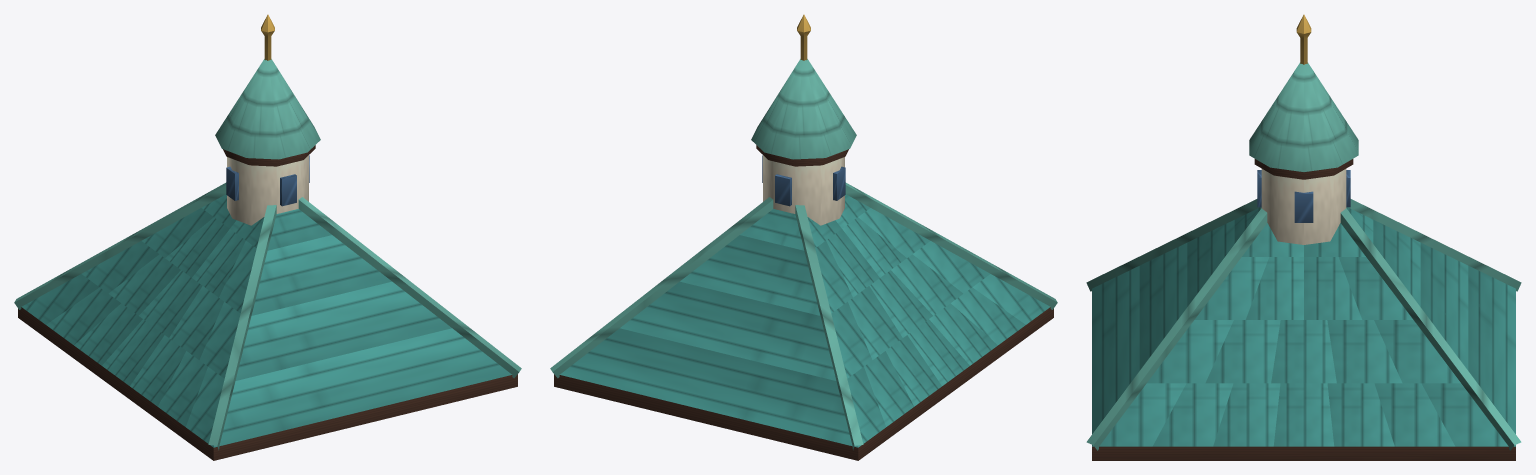
Rendered from bld_roof_b_6x6.glb.
3 renders of one model, left to right at view 1: azimuth 30°, elevation 25°; view 2: azimuth 150°, elevation 25°; view 3: azimuth 270°, elevation 25°, orthographic. The views are drawn at different scales.
Visible parts, largest first — view 1: bld_roof_b_6x6; view 2: bld_roof_b_6x6; view 3: bld_roof_b_6x6.
Boxes of the visible parts, x1,y1,x2,y2 form: bld_roof_b_6x6: (14,14,521,460); bld_roof_b_6x6: (550,14,1057,460); bld_roof_b_6x6: (1086,14,1521,460).
Size of the model in its own units: 5.44 by 5.61 by 6.04.
1 material, 1 textured.
